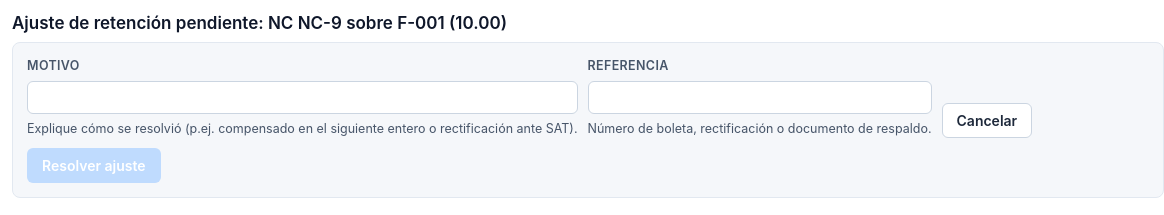
Test case: ResolverAjusteDialog › deshabilita el envío hasta tener motivo y referencia
Expected: the heading "Ajuste de retención pendiente: NC NC-9 sobre F-001 (10.00)" is shown, [12,13,507,33]
Type "Confirmado" into the field labelled "Motivo".
click(302, 98); type("Confirmado")  # box [27,81,578,114]
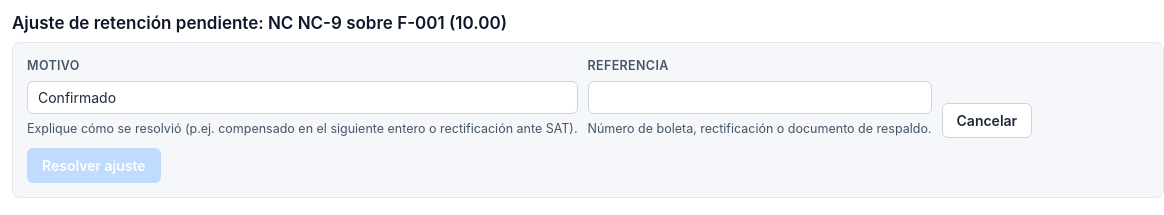
Expected: the button "Resolver ajuste" is disabled, [27,148,161,183]
Type "NC-9" into the field labelled "Referencia".
click(760, 98); type("NC-9")  # box [588,81,932,114]
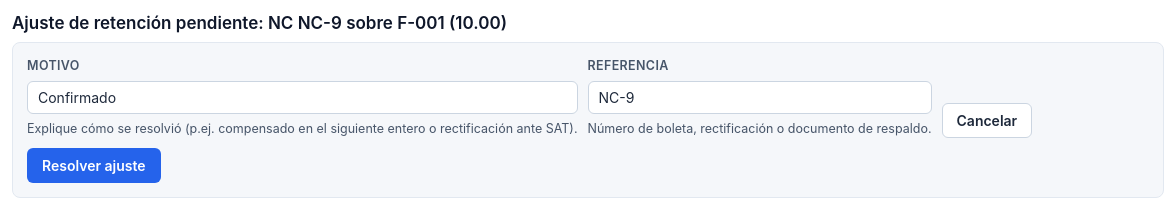
Expected: the button "Resolver ajuste" is enabled, [27,148,161,183]
